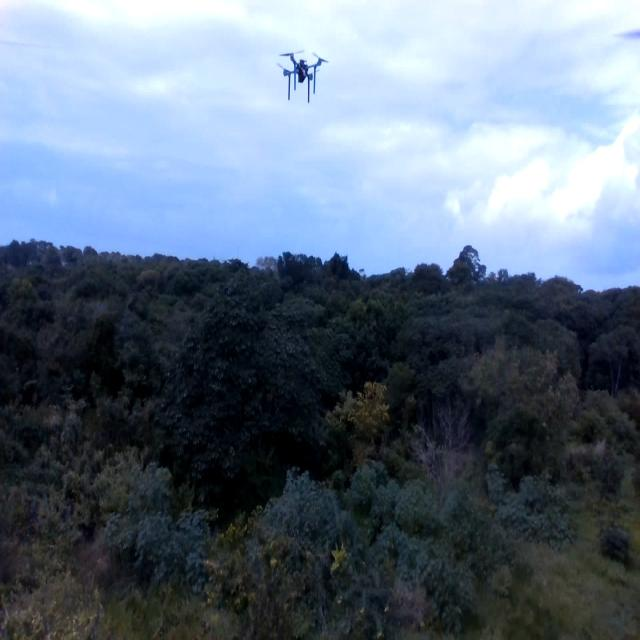-uav-: (270, 33, 328, 126)
